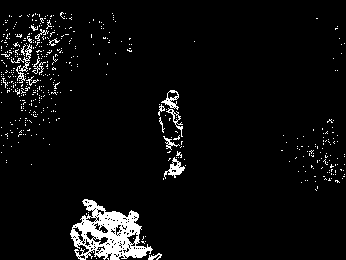person: (154, 86, 188, 182)
